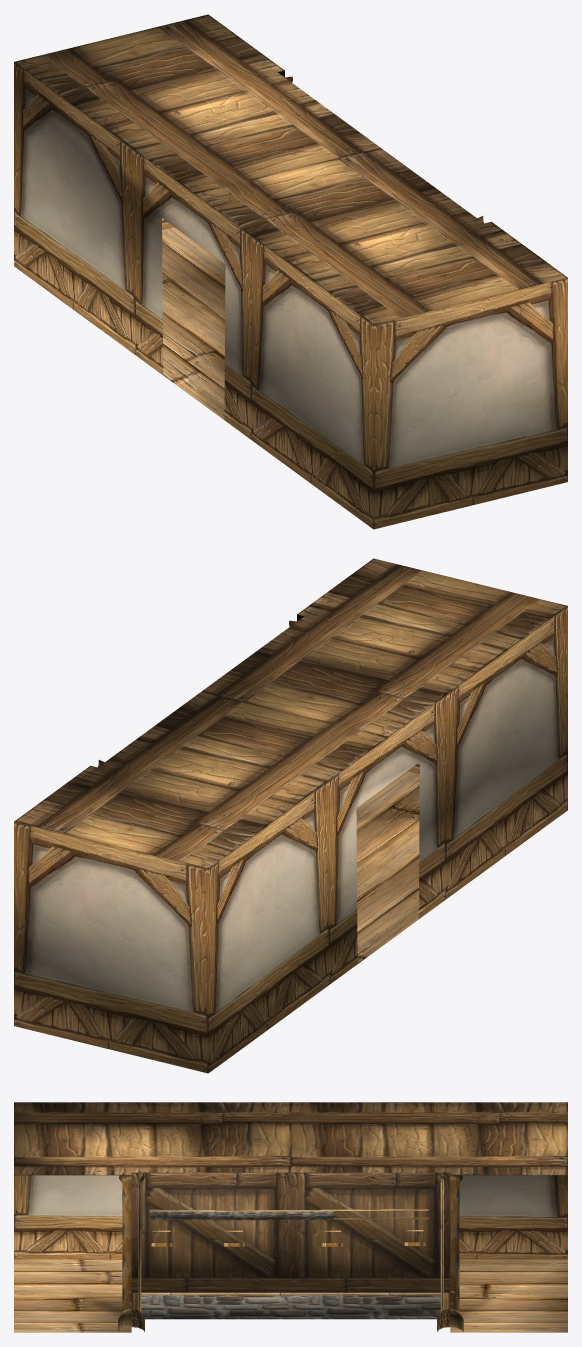
The model's file is stormwind_135.fbx.
3 views of the same model, one above another, from view 1: azimuth 30°, elevation 25°; view 2: azimuth 150°, elevation 25°; view 3: azimuth 270°, elevation 25° (orthographic). The views are drawn at different scales.
Visible parts, largest first — view 1: stormwind_135_48, stormwind_135_55, stormwind_135_51; view 2: stormwind_135_48, stormwind_135_55, stormwind_135_51; view 3: stormwind_135_55, stormwind_135_56, stormwind_135_48, stormwind_135_51, stormwind_135_38, stormwind_135_53, stormwind_135_54, stormwind_135_49.
Part boxes in pixels (<box>): stormwind_135_48: <box>14,62,567,529</box>; stormwind_135_55: <box>14,14,567,324</box>; stormwind_135_51: <box>162,227,225,419</box>; stormwind_135_48: <box>14,606,567,1073</box>; stormwind_135_55: <box>14,558,567,868</box>; stormwind_135_51: <box>356,771,419,963</box>; stormwind_135_55: <box>14,1102,567,1175</box>; stormwind_135_56: <box>131,1172,450,1292</box>; stormwind_135_48: <box>14,1175,567,1259</box>; stormwind_135_51: <box>14,1259,567,1332</box>; stormwind_135_38: <box>141,1211,440,1319</box>; stormwind_135_53: <box>118,1173,463,1332</box>; stormwind_135_54: <box>149,1209,428,1231</box>; stormwind_135_49: <box>131,1173,450,1331</box>.
Size of the model in its own units: 5.92 by 5.95 by 18.96.
